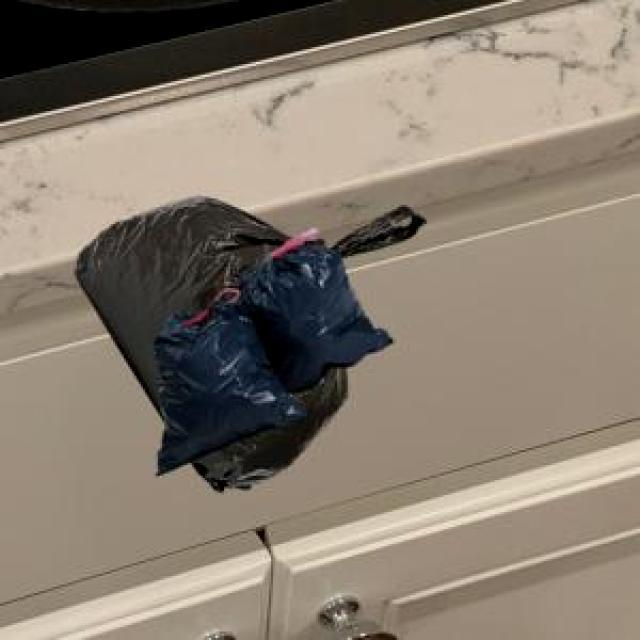Trashbag: (148, 311, 269, 466), (251, 249, 381, 379)
